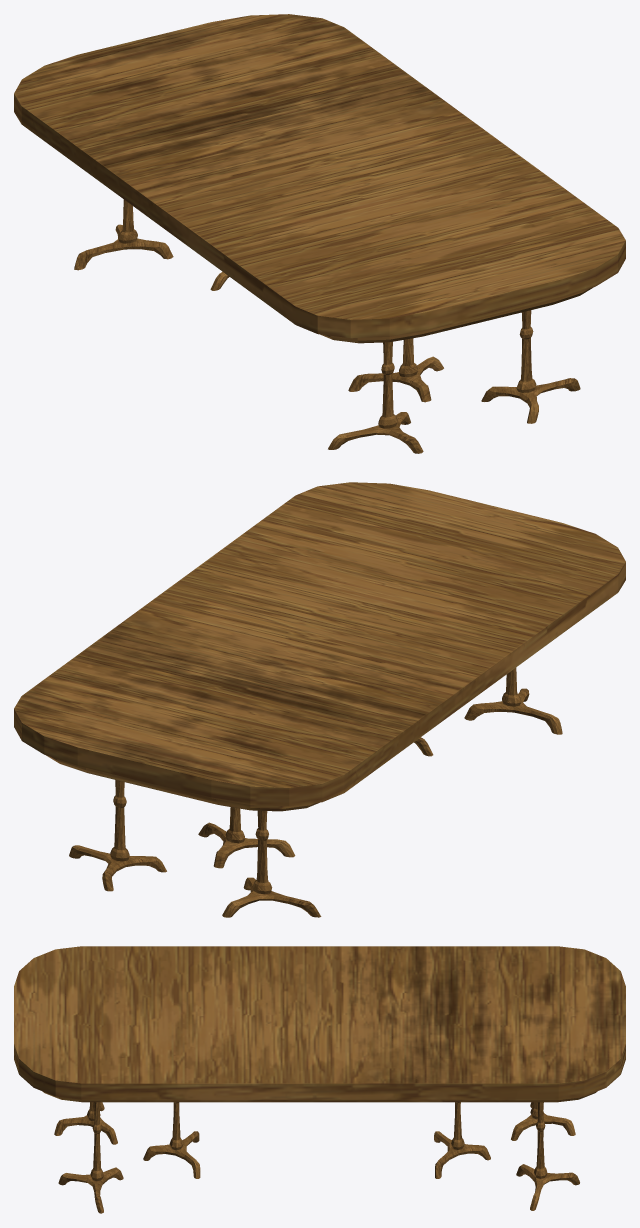
File: mesadef.fbx
3 renders of one model, top to bottom at view 1: azimuth 30°, elevation 25°; view 2: azimuth 150°, elevation 25°; view 3: azimuth 270°, elevation 25°, orthographic. The views are drawn at different scales.
Visible parts, largest first — view 1: Cube; view 2: Cube; view 3: Cube.
Boxes of the visible parts, x1,y1,x2,y2 form: Cube: [14, 14, 625, 453]; Cube: [14, 482, 625, 917]; Cube: [14, 946, 625, 1213].
Bounding box in the file's own units: 712 × 342 × 1342.
3 materials, 3 textured.
